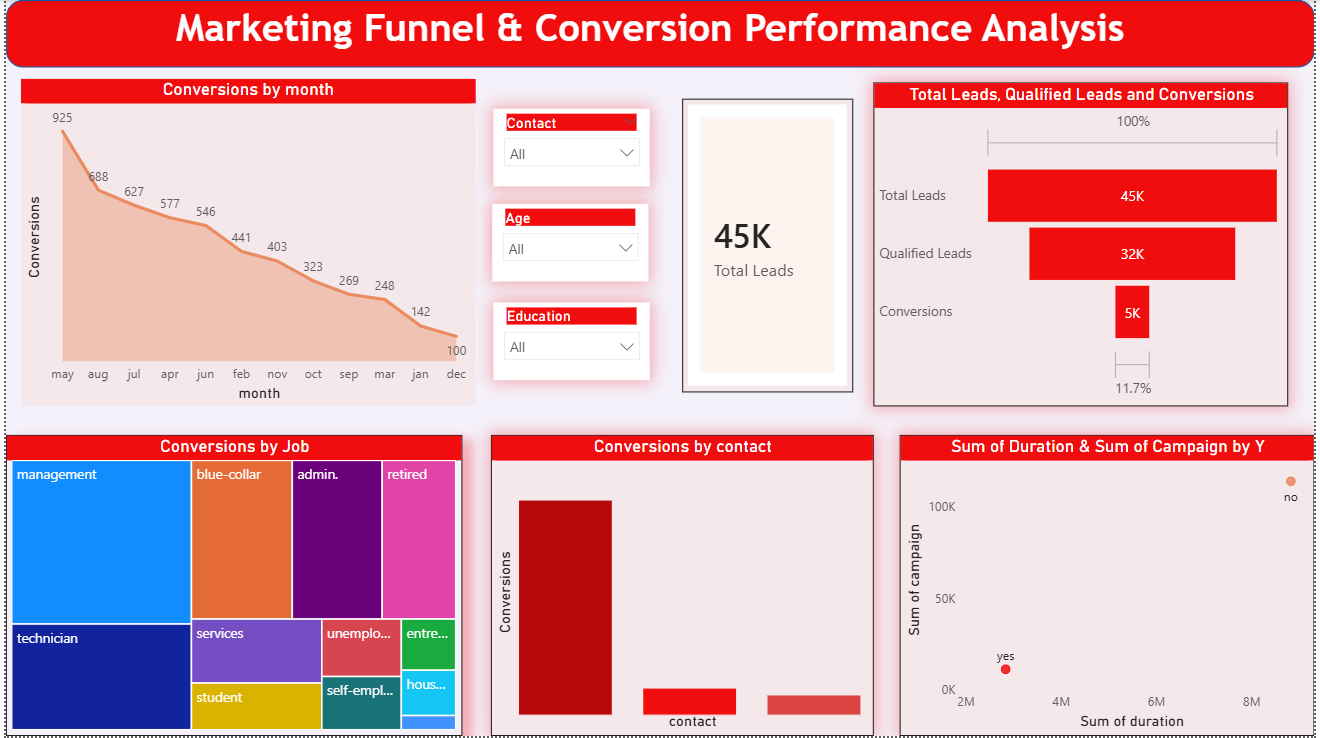

This screenshot's page, from the dashboard's own definition file:
{"tool":"powerbi","page":{"name":"Page 1","canvas":[1280,720],"ordinal":0},"visuals":[{"type":"funnel","fields":{"Y":["measure.Total Leads","measure.Qualified Leads","measure.Conversions"]},"box":[848.6,80.7,406,316.7],"z":0},{"type":"clusteredColumnChart","fields":{"Category":["bank-full.contact"],"Y":["measure.Conversions"]},"box":[474.5,425.5,374.2,294.7],"z":1000},{"type":"treemap","title":"Conversions by Job","fields":{"Group":["bank-full.job"],"Values":["measure.Conversions"]},"box":[0,425.5,446.3,294.7],"z":2000},{"type":"scatterChart","title":"Sum of Duration & Sum of Campaign by Y","fields":{"X":["Sum(bank-full.duration)"],"Y":["Sum(bank-full.campaign)"],"Category":["bank-full.y"]},"box":[874.3,425.5,406,294.7],"z":3000},{"type":"areaChart","fields":{"Category":["bank-full.month"],"Y":["measure.Conversions"]},"box":[14.7,77,445.1,320.4],"z":4000},{"type":"cardVisual","fields":{"Data":["measure.Total Leads"]},"box":[661.6,96.6,167.5,287.4],"z":5000},{"type":"shape","box":[0,0,1280.3,66],"z":5001},{"type":"textbox","box":[161.4,0,957.5,66],"z":5002},{"type":"slicer","fields":{"Values":["bank-full.contact"]},"box":[476.9,106.4,152.9,75.8],"z":5003},{"type":"slicer","fields":{"Values":["bank-full.age"]},"box":[475.7,199.3,152.9,75.8],"z":5004},{"type":"slicer","fields":{"Values":["bank-full.education"]},"box":[476.9,295.9,152.9,75.8],"z":5005}]}

Visuals, with their boxes in screenshot pixels (x1, y1, x2, y2), scaled from the page's 1280x720 canvas onto the 1320x738 screenshot:
funnel - measure.Total Leads x measure.Qualified Leads: select_region(875, 83, 1294, 407)
clusteredColumnChart - bank-full.contact x measure.Conversions: select_region(489, 436, 875, 737)
"Conversions by Job" treemap: select_region(0, 436, 460, 737)
"Sum of Duration & Sum of Campaign by Y" scatterChart: select_region(902, 436, 1319, 737)
areaChart - bank-full.month x measure.Conversions: select_region(15, 79, 474, 407)
cardVisual - measure.Total Leads: select_region(682, 99, 855, 394)
shape: select_region(0, 0, 1319, 68)
textbox: select_region(166, 0, 1154, 68)
slicer - bank-full.contact: select_region(492, 109, 649, 187)
slicer - bank-full.age: select_region(491, 204, 648, 282)
slicer - bank-full.education: select_region(492, 303, 649, 381)
